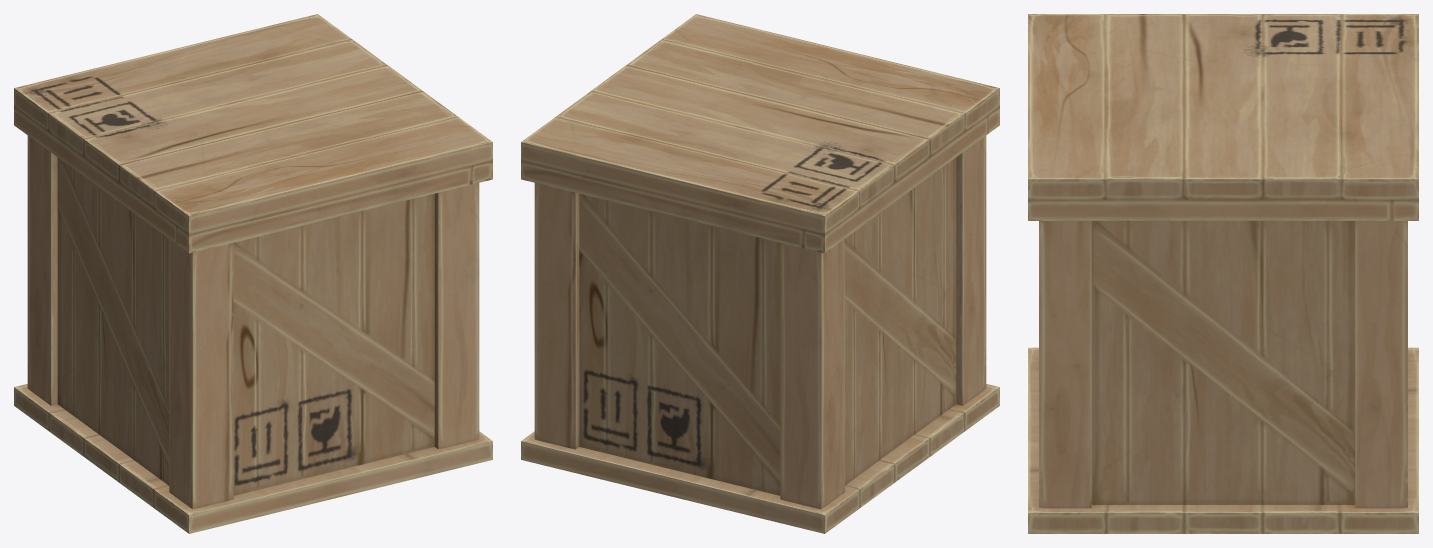
The model's file is P_Toolbox_003_S1_M01.obj.
The picture shows the model from 3 angles, left to right: view 1: azimuth 30°, elevation 25°; view 2: azimuth 150°, elevation 25°; view 3: azimuth 270°, elevation 25°; orthographic projection. The views are drawn at different scales.
Bounding box in the file's own units: 0.9008 × 0.9002 × 0.8994.
1 material, 1 textured.
